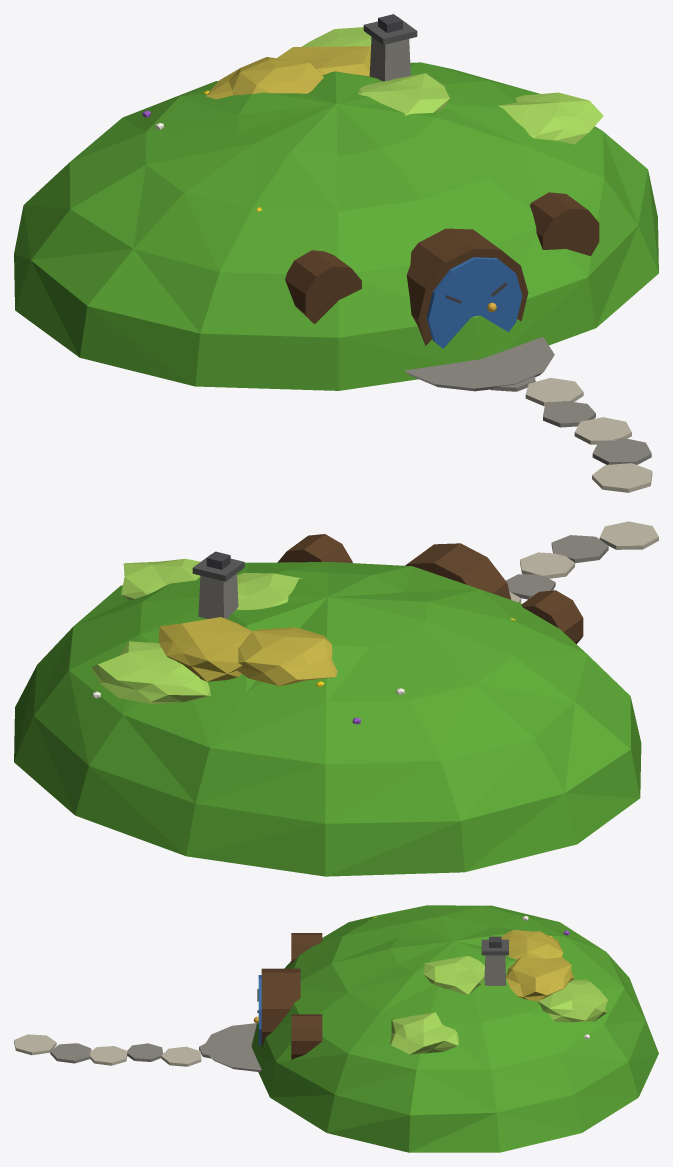
File: hobbit_hole_4.glb
3 renders of one model, top to bottom at view 1: azimuth 30°, elevation 25°; view 2: azimuth 150°, elevation 25°; view 3: azimuth 270°, elevation 25°, orthographic. The views are drawn at different scales.
Visible parts, largest first — view 1: hobbit_hole_4; view 2: hobbit_hole_4; view 3: hobbit_hole_4.
Part boxes in pixels (x1=…): hobbit_hole_4: x1=14, y1=14, x2=658, y2=492; hobbit_hole_4: x1=14, y1=521, x2=658, y2=876; hobbit_hole_4: x1=14, y1=905, x2=658, y2=1152.
Size of what is drawn, in the model's own units: 12.09 by 4.05 by 16.61.
